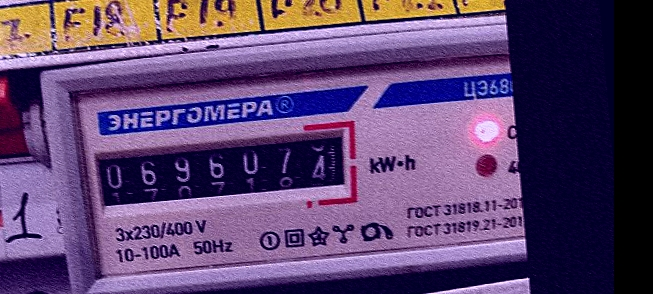0: (102, 158, 123, 189), (237, 145, 258, 174)
4: (306, 151, 326, 181)
6: (204, 148, 225, 178), (136, 156, 156, 185)
7: (272, 142, 294, 174)
9: (170, 153, 190, 183)
screen: (79, 114, 364, 225)
